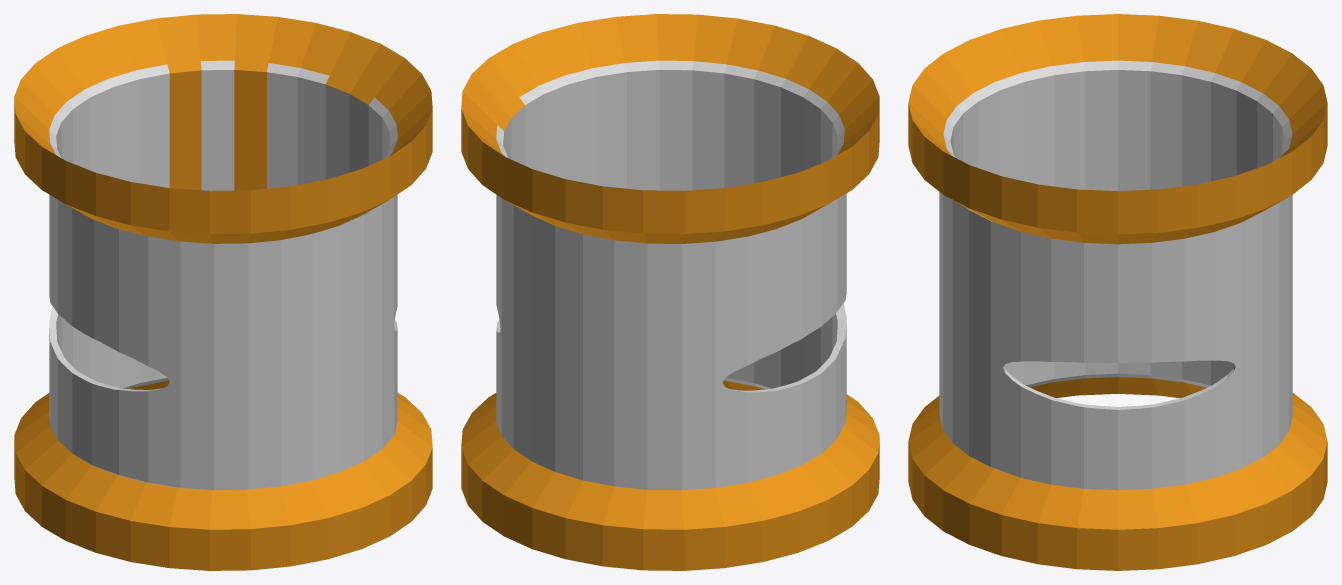
The model's file is tubedoublefente.fbx.
3 views of the same model, side by side, from view 1: azimuth 30°, elevation 25°; view 2: azimuth 150°, elevation 25°; view 3: azimuth 270°, elevation 25° (orthographic).
Parts seen in each view (by area): view 1: Cylinder.003; view 2: Cylinder.003; view 3: Cylinder.003.
Boxes of the visible parts, left/top/right/bottom form: Cylinder.003: left=14, top=14, right=432, bottom=570; Cylinder.003: left=461, top=14, right=879, bottom=570; Cylinder.003: left=908, top=14, right=1327, bottom=570.
Size of the model in its own units: 240 by 240 by 240.
